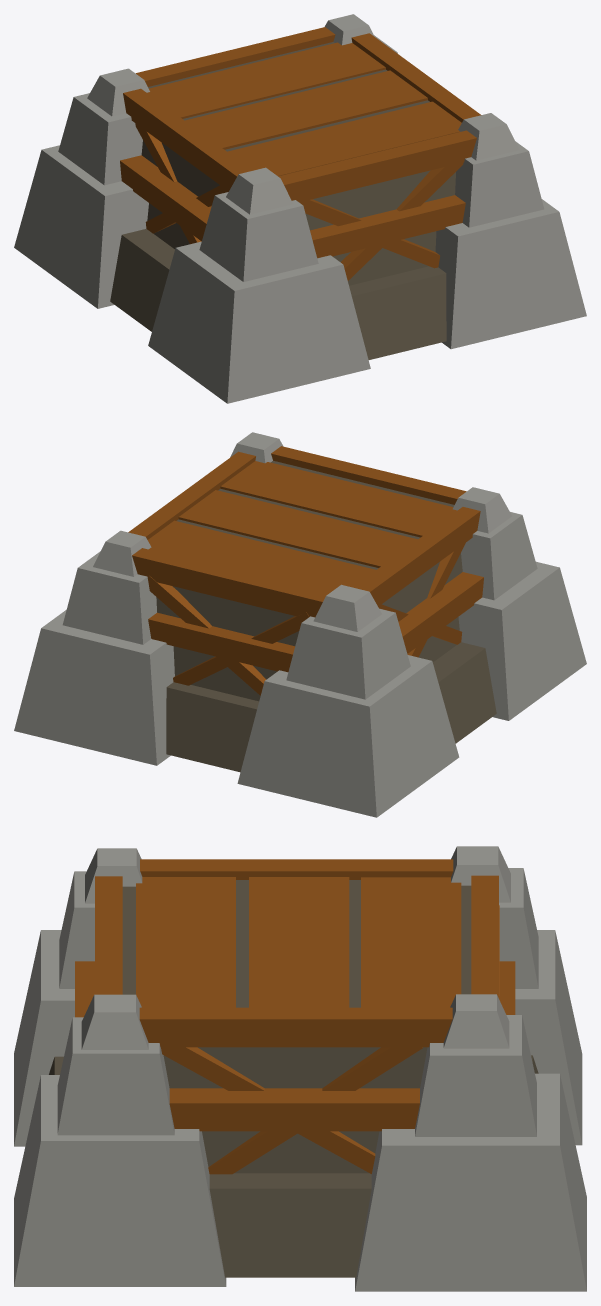
The model's file is pier.fbx.
The picture shows the model from 3 angles, top to bottom: view 1: azimuth 30°, elevation 25°; view 2: azimuth 150°, elevation 25°; view 3: azimuth 270°, elevation 25°; orthographic projection. The views are drawn at different scales.
Parts seen in each view (by area): view 1: polySurface165; view 2: polySurface165; view 3: polySurface165.
Boxes of the visible parts, x1,y1,x2,y2 form: polySurface165: (14,14,586,403); polySurface165: (14,432,586,817); polySurface165: (14,846,586,1291).
Size of the model in its own units: 161 by 77.61 by 164.
Materials: 1 (1 with a texture image).
